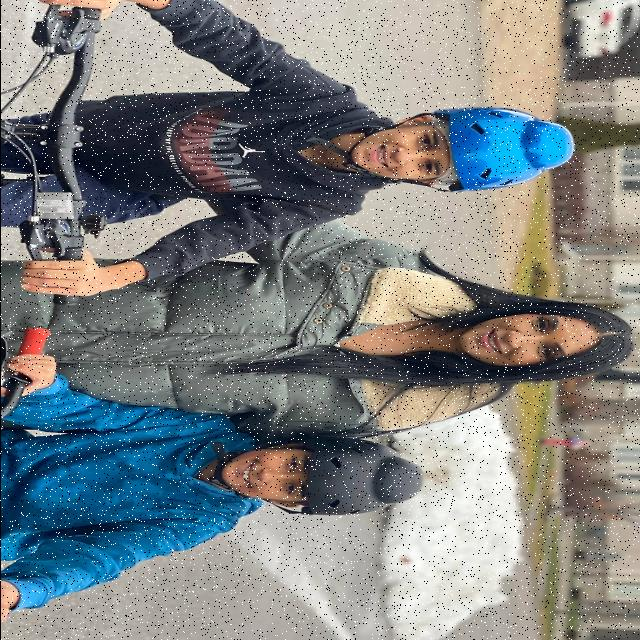Helmet: (428, 108, 573, 192), (286, 436, 422, 515)
Non_Helmet: (448, 296, 634, 380)
